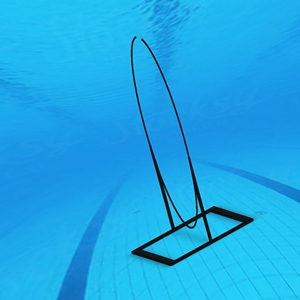circle: (127, 36, 256, 267)
